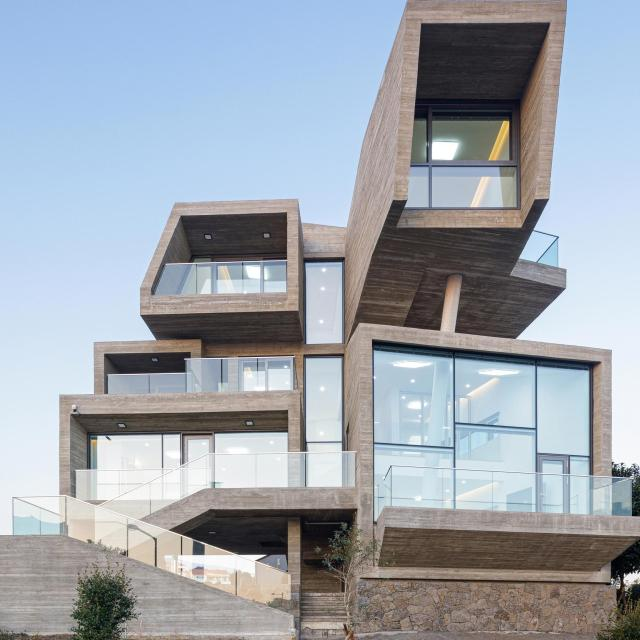railing: (13, 494, 294, 619), (97, 449, 358, 519), (373, 467, 634, 520), (153, 258, 290, 296), (187, 356, 297, 392), (74, 470, 174, 498), (109, 374, 189, 395), (521, 230, 563, 266)
window: (376, 346, 597, 489), (404, 101, 520, 210), (307, 352, 347, 451), (87, 431, 181, 469), (306, 260, 343, 344), (218, 433, 290, 451), (185, 434, 215, 463)
